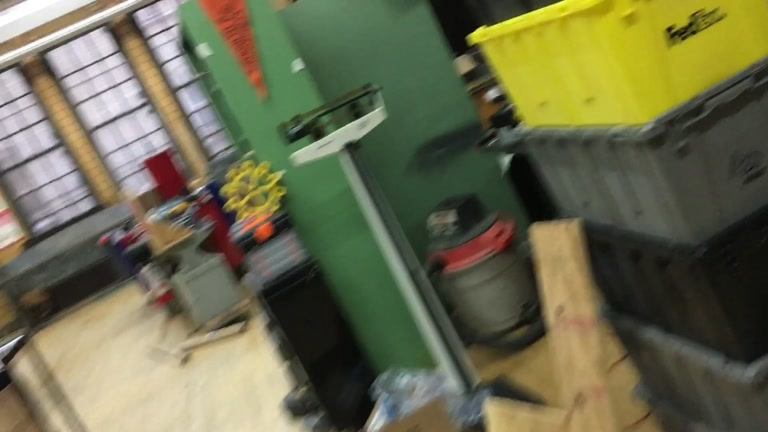gear: (219, 158, 286, 225)
